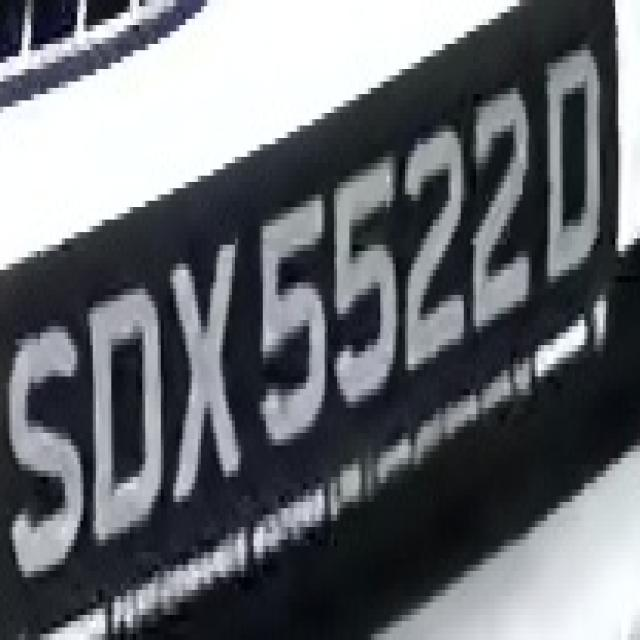2: (467, 100, 547, 352), (399, 126, 470, 370)
5: (253, 182, 331, 477), (331, 157, 402, 420)
D: (80, 288, 174, 558), (532, 63, 612, 295)
S: (6, 314, 93, 615)
X: (157, 220, 250, 514)
